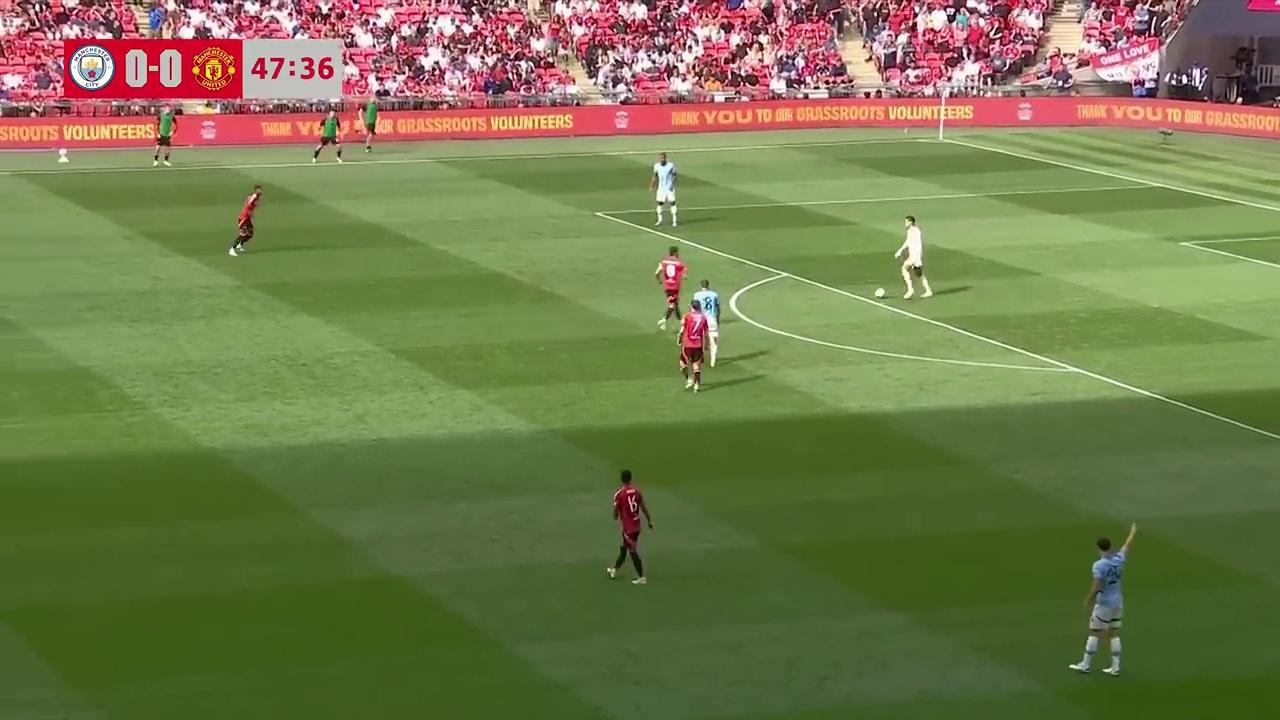ball: (874, 283, 887, 301)
player: (1069, 527, 1136, 677), (605, 469, 653, 584), (895, 219, 932, 299), (678, 297, 707, 394), (655, 247, 687, 328), (649, 152, 682, 227), (229, 185, 261, 255), (692, 279, 721, 351)
